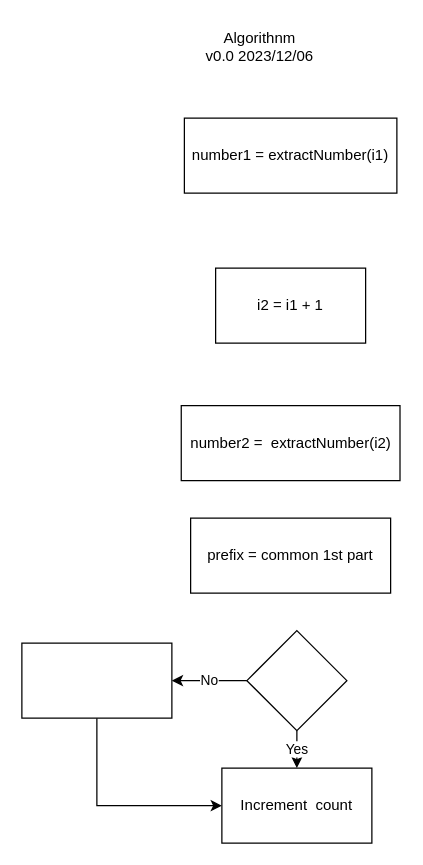
Some shapes in this 423 by 865 pixel diagram are drawn without their labels. The shapes that lost their labels are listed below. From the top down, each one's centre as x and y in pixels, then its label:
At pixel 96 680: "add new prefix".
At pixel 296 680: "prefixes contains the prefix?".
